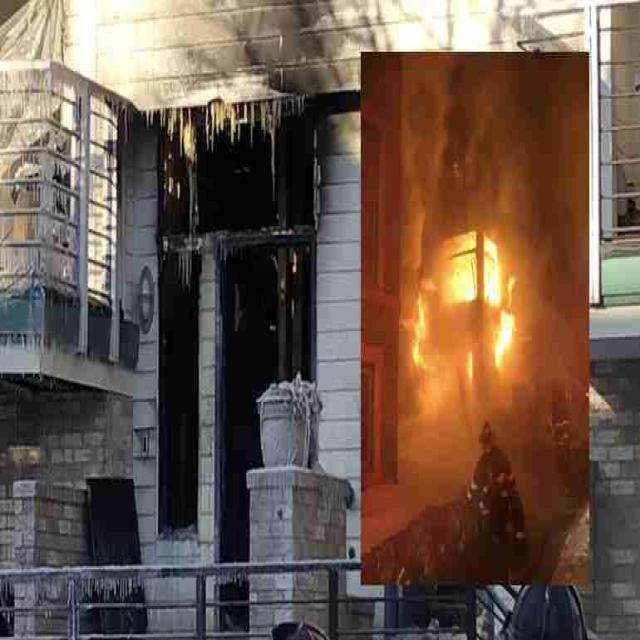Fire: (399, 192, 530, 399)
